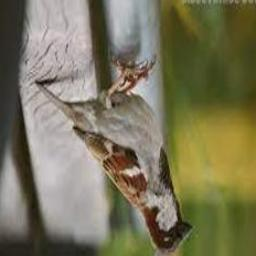Sparrow: (34, 55, 192, 256)
